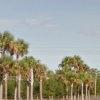Palm tree: (57, 52, 95, 100)
